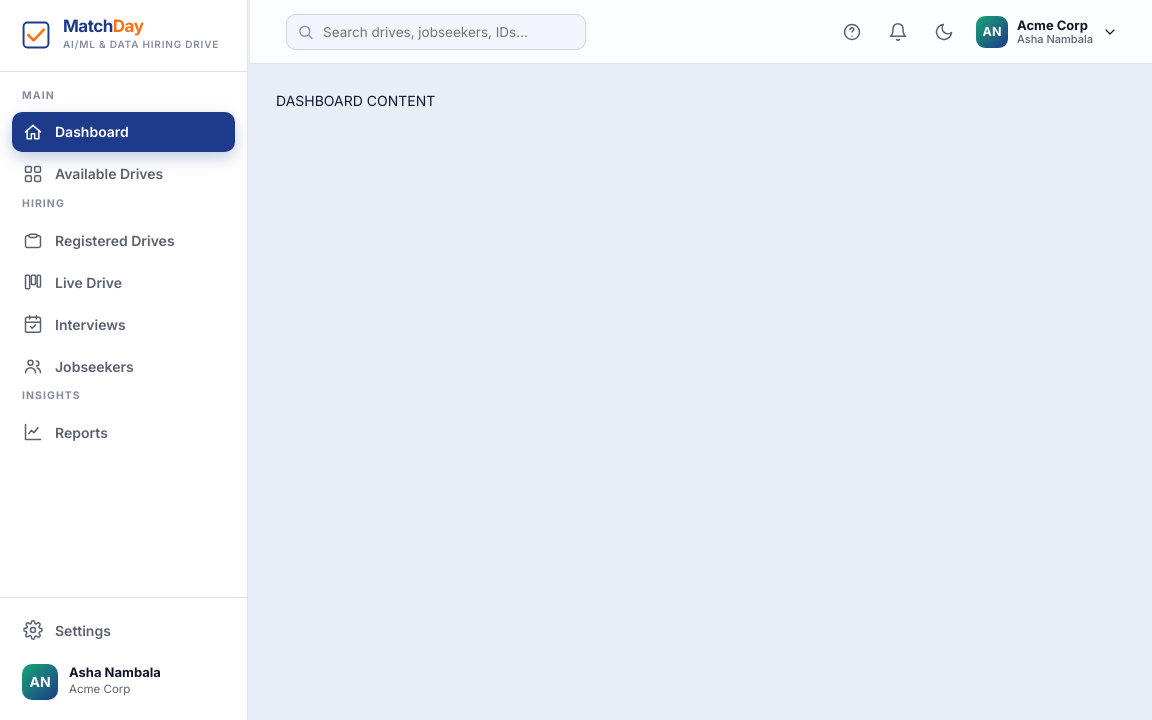
Test: EmployerShell › navigates to /employer/drives when the Available Drives nav item is clicked
Click the button "Available Drives" at (124, 174), box [12,154,235,194]
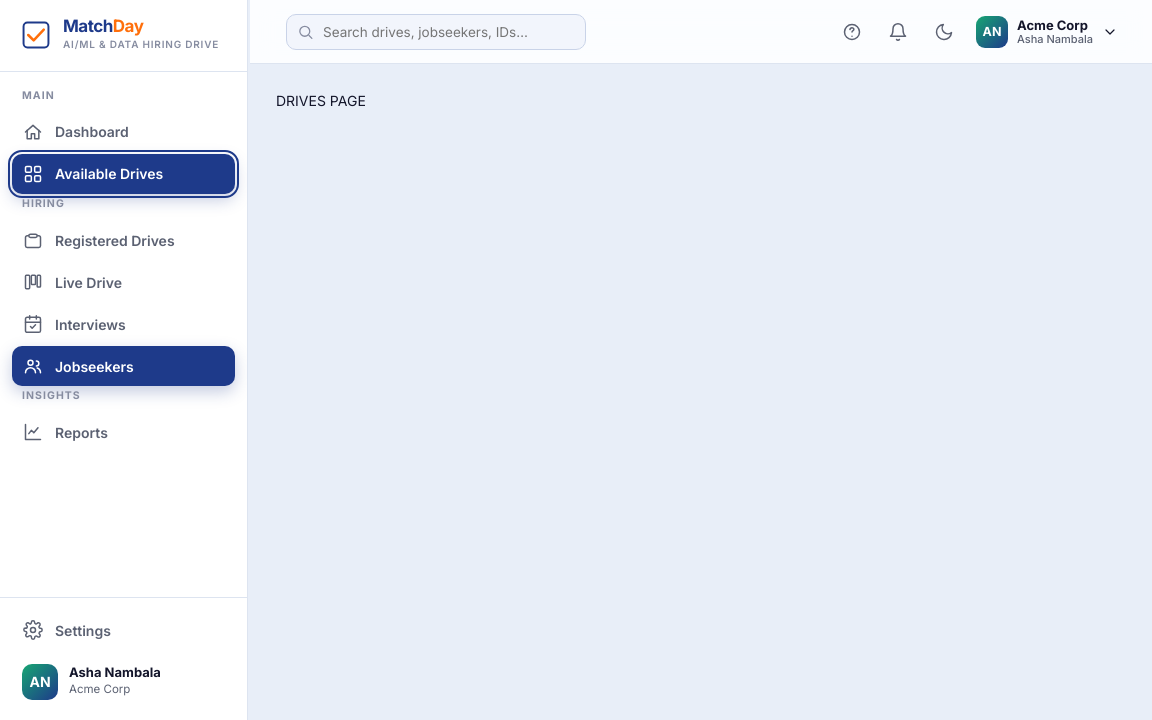
Expected: the text "DRIVES PAGE" is shown, [276,92,366,109]
